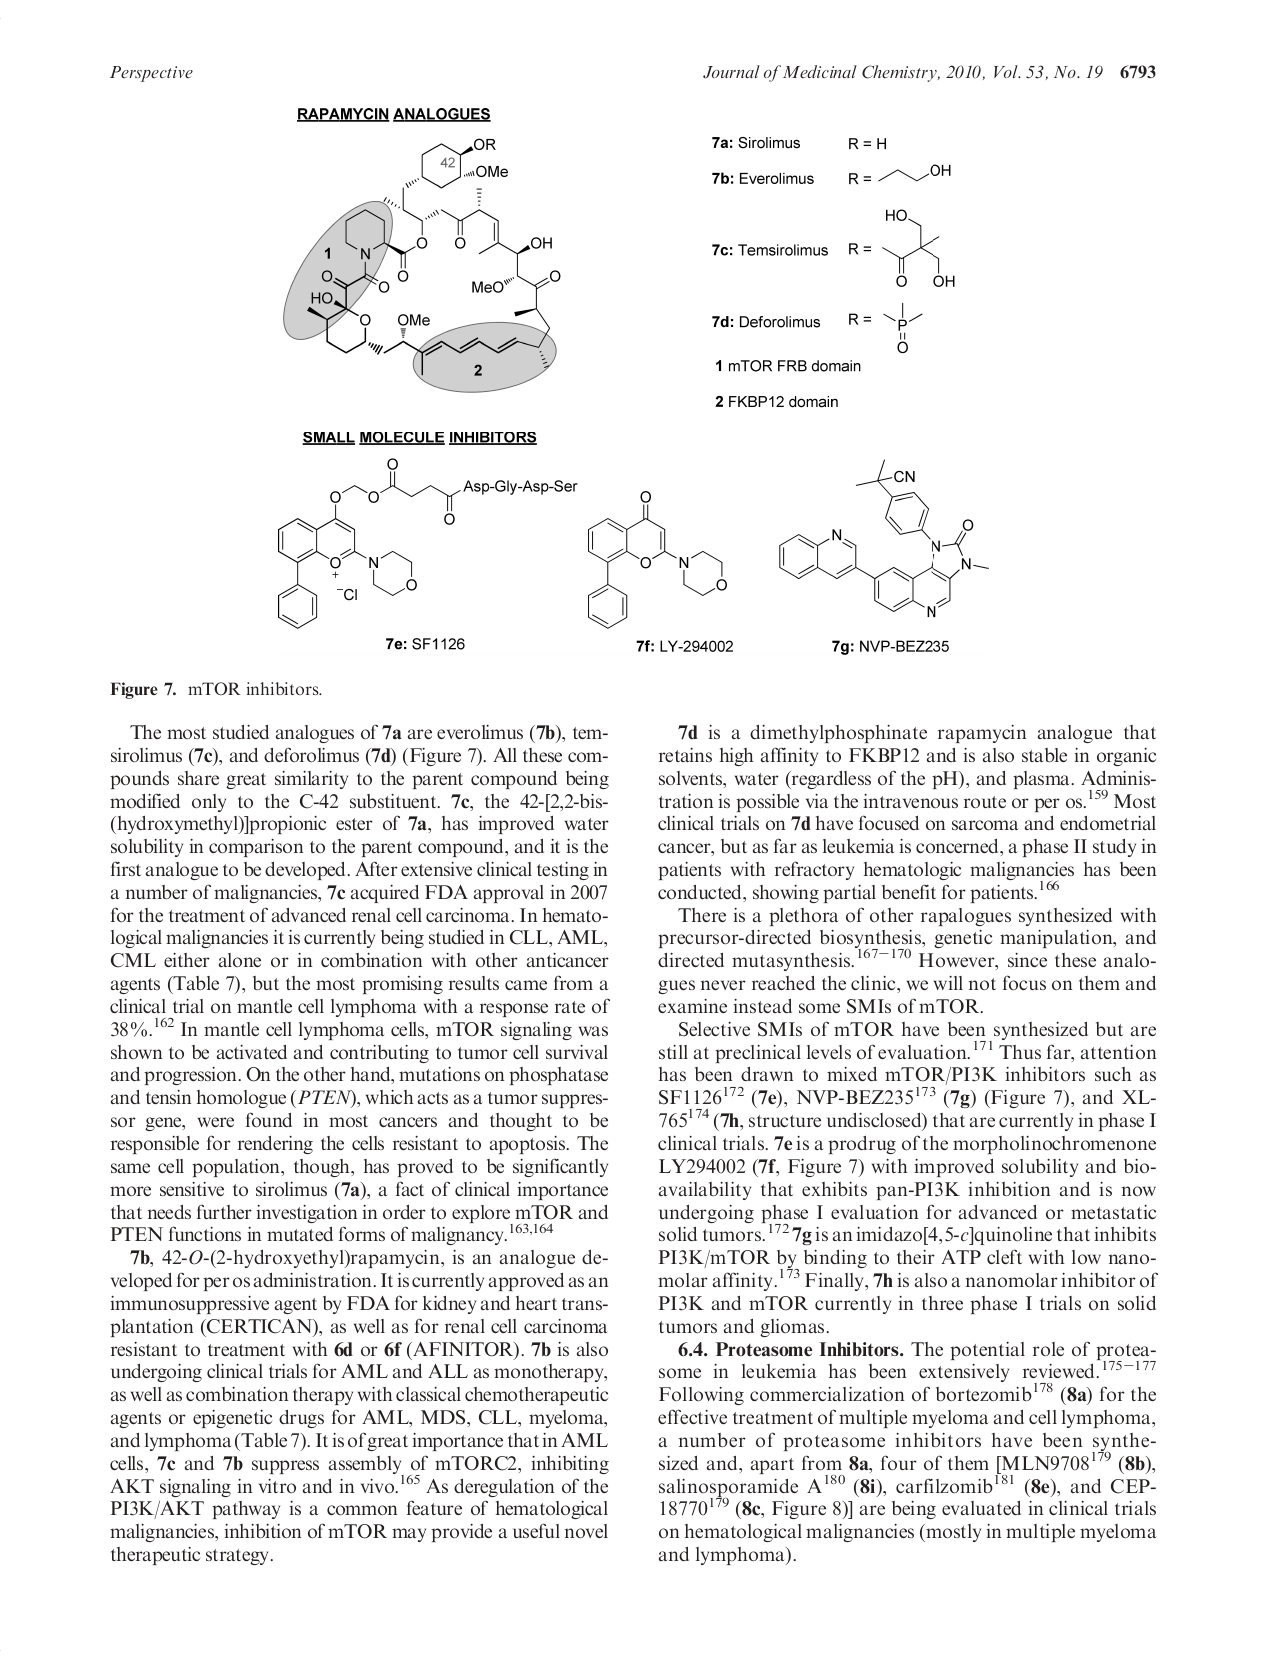exist_molecular: (305, 132, 578, 384), (274, 461, 581, 630), (769, 456, 995, 617), (585, 489, 737, 634), (848, 203, 961, 289), (876, 152, 965, 195), (880, 289, 927, 354)
